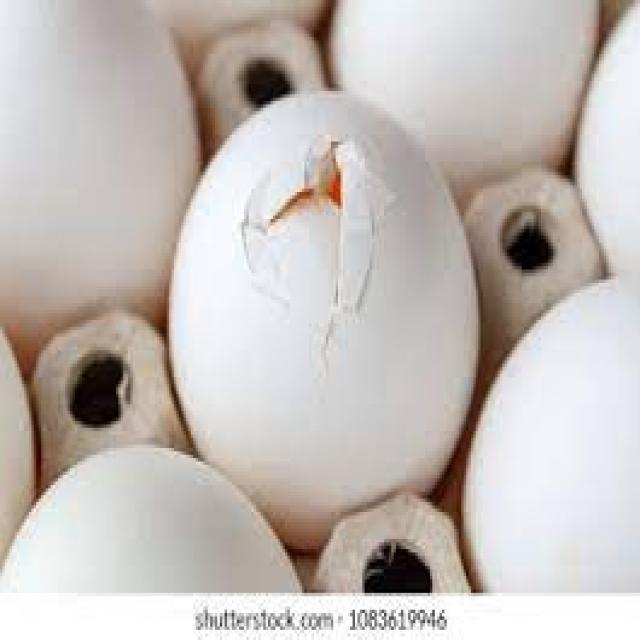biodegradable: (170, 91, 464, 514), (0, 5, 191, 309), (471, 278, 640, 596), (4, 446, 291, 616), (330, 0, 599, 180)
